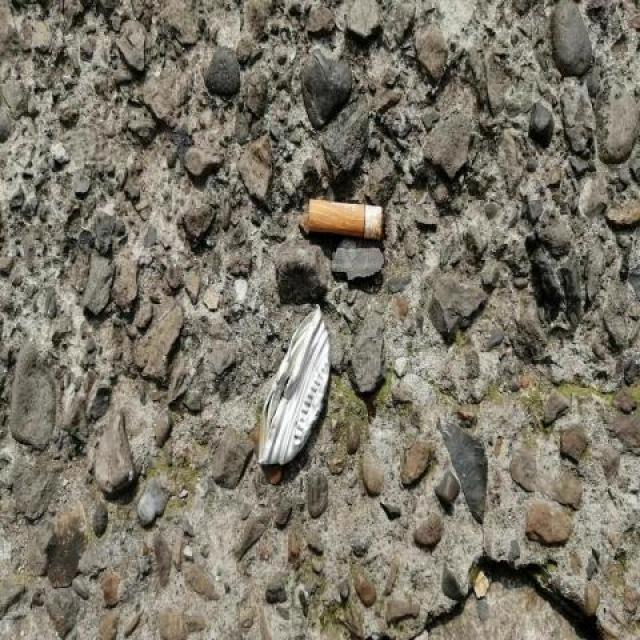non-organic waste: (303, 196, 392, 245)
